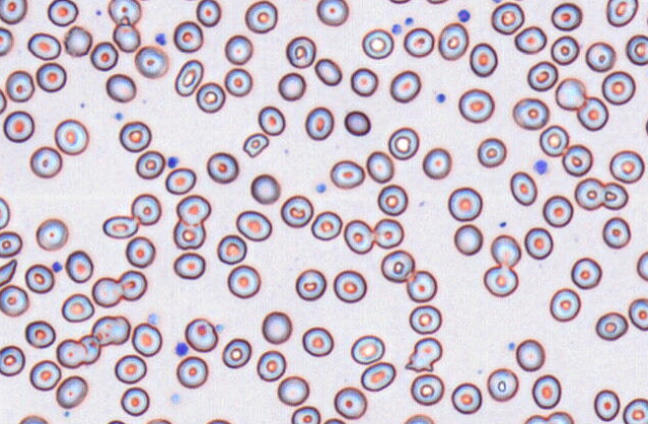PLT: (533, 159, 550, 174), (174, 341, 189, 355), (169, 393, 184, 407), (153, 32, 169, 45), (50, 259, 64, 273), (434, 92, 448, 106), (457, 8, 471, 22), (312, 181, 327, 194), (167, 156, 182, 168), (390, 23, 404, 34), (404, 16, 414, 24)
RBC: (458, 88, 494, 123), (54, 118, 88, 155), (91, 314, 130, 346), (447, 186, 482, 221), (184, 317, 218, 352), (601, 70, 635, 105), (609, 149, 644, 183), (512, 97, 549, 129), (437, 22, 468, 60), (483, 264, 518, 297), (235, 210, 272, 241), (55, 375, 88, 409), (333, 386, 367, 419), (380, 249, 414, 282), (333, 269, 366, 303), (490, 1, 524, 34), (227, 264, 260, 298), (134, 45, 168, 78), (576, 96, 608, 131), (29, 145, 62, 178), (244, 0, 277, 33), (35, 217, 68, 250), (280, 194, 313, 227), (176, 194, 210, 226), (410, 373, 444, 405), (486, 367, 518, 401), (387, 126, 419, 160), (343, 219, 374, 254), (174, 59, 203, 96), (176, 355, 208, 388), (570, 256, 602, 289), (389, 69, 421, 102), (131, 322, 162, 356), (261, 310, 292, 344), (549, 287, 580, 321), (360, 361, 395, 391), (531, 374, 561, 409), (329, 159, 364, 189), (29, 359, 61, 391), (206, 151, 238, 183), (119, 120, 151, 152), (574, 177, 605, 210), (490, 234, 521, 267), (555, 77, 586, 110), (542, 194, 573, 227), (350, 334, 384, 364), (91, 276, 123, 307), (277, 375, 309, 406), (451, 382, 482, 414), (3, 110, 34, 142), (295, 268, 326, 300), (361, 28, 393, 59), (61, 292, 94, 322), (515, 338, 545, 371), (125, 235, 155, 268), (406, 269, 436, 302), (408, 304, 441, 334), (562, 143, 592, 176), (285, 35, 315, 68), (304, 106, 333, 140), (469, 42, 497, 77), (373, 217, 404, 248), (527, 60, 558, 91), (585, 41, 616, 72), (256, 349, 286, 381), (453, 223, 483, 255), (131, 193, 161, 225), (301, 326, 333, 356), (539, 124, 569, 156), (195, 81, 225, 113), (173, 20, 203, 52), (595, 311, 628, 340), (5, 69, 34, 102), (65, 249, 93, 283), (509, 171, 537, 205), (27, 32, 61, 60), (117, 269, 147, 300), (221, 337, 251, 368), (250, 173, 280, 204), (311, 210, 342, 240), (377, 184, 407, 215), (35, 62, 66, 92), (403, 27, 434, 57), (173, 220, 205, 249), (114, 354, 146, 383), (514, 25, 546, 54), (422, 147, 451, 179), (524, 227, 553, 259), (602, 216, 631, 248), (550, 2, 582, 31), (0, 284, 28, 317), (366, 150, 394, 183), (56, 338, 86, 368), (102, 214, 138, 239), (216, 234, 246, 264), (24, 263, 54, 293), (24, 319, 55, 348), (63, 25, 92, 56), (105, 73, 136, 102), (173, 251, 205, 279), (593, 388, 620, 421), (120, 386, 149, 416), (135, 150, 165, 179), (550, 35, 579, 65), (477, 137, 506, 167), (224, 34, 252, 65), (107, 0, 141, 25), (112, 22, 140, 52), (257, 105, 285, 135), (277, 71, 305, 101), (90, 41, 118, 71), (165, 167, 196, 194), (316, 0, 348, 26), (606, 0, 638, 26), (314, 57, 342, 86), (350, 67, 378, 96), (224, 67, 252, 96), (47, 0, 78, 26), (0, 344, 25, 376), (602, 181, 628, 210), (625, 34, 647, 65), (195, 0, 221, 26), (344, 110, 370, 136), (79, 334, 101, 364), (622, 397, 647, 423), (628, 297, 647, 330), (0, 0, 26, 24), (0, 230, 22, 257), (290, 405, 320, 423), (0, 27, 13, 56), (636, 250, 647, 281), (546, 411, 574, 423), (0, 196, 10, 229), (403, 413, 434, 423), (18, 414, 48, 423), (523, 414, 548, 423), (143, 417, 172, 423), (0, 88, 6, 114), (322, 417, 345, 423), (205, 418, 231, 423), (388, 0, 411, 4), (425, 0, 448, 4), (105, 419, 126, 423), (0, 159, 2, 188), (645, 117, 648, 136)
Schistocyte: (405, 338, 443, 373), (243, 133, 269, 158), (0, 258, 19, 288)
